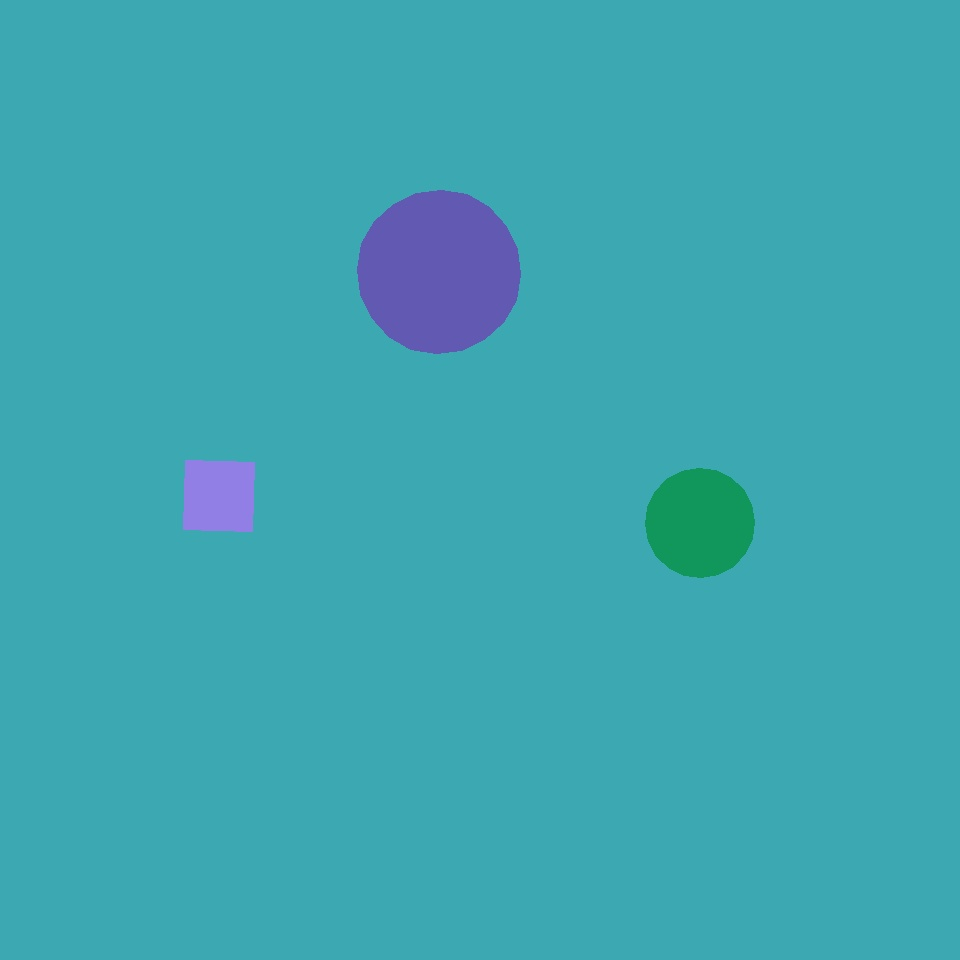circle: (691, 605, 837, 762)
square: (28, 684, 241, 898), (184, 461, 254, 532)
triangle: (302, 529, 673, 900), (358, 190, 520, 354), (646, 468, 754, 578)
